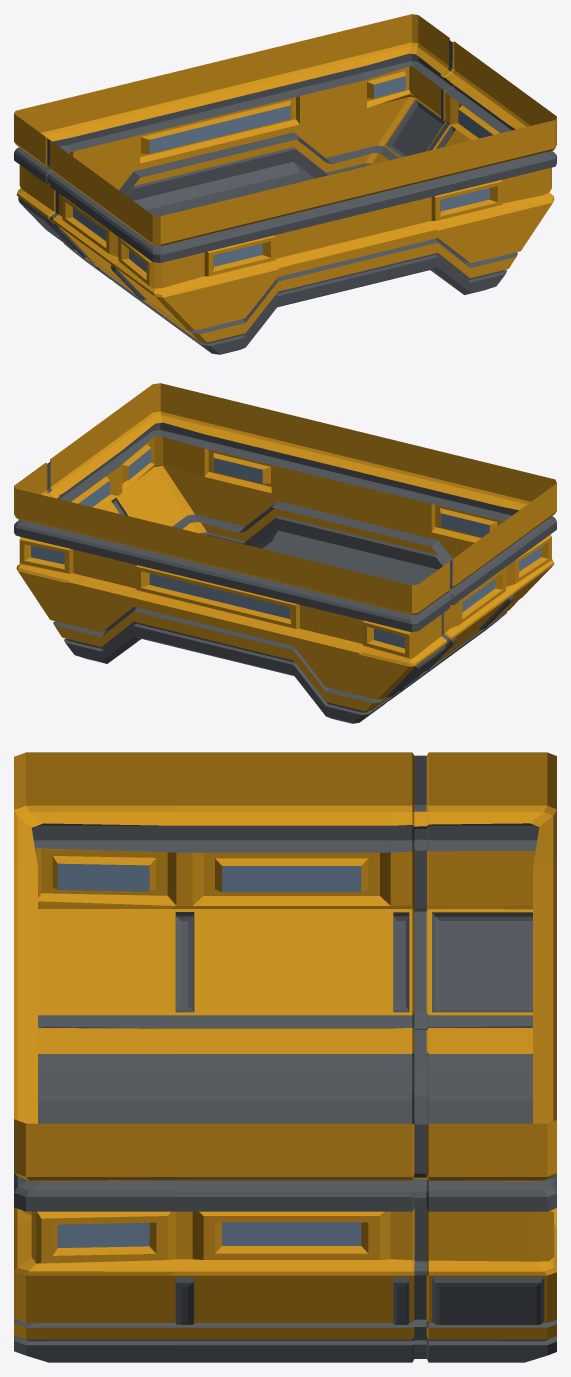
File: Dropship_05_Storage_Compartment_Yellow.fbx
3 views of the same model, one above another, from view 1: azimuth 30°, elevation 25°; view 2: azimuth 150°, elevation 25°; view 3: azimuth 270°, elevation 25° (orthographic). The views are drawn at different scales.
Parts seen in each view (by area): view 1: Dropship_05_Storage_Compartment_Yellow; view 2: Dropship_05_Storage_Compartment_Yellow; view 3: Dropship_05_Storage_Compartment_Yellow.
Boxes of the visible parts, x1,y1,x2,y2 form: Dropship_05_Storage_Compartment_Yellow: (14,14,556,354); Dropship_05_Storage_Compartment_Yellow: (14,383,556,723); Dropship_05_Storage_Compartment_Yellow: (14,752,556,1362).
Bounding box in the file's own units: 347 × 130 × 215.
2 materials, 2 textured.
